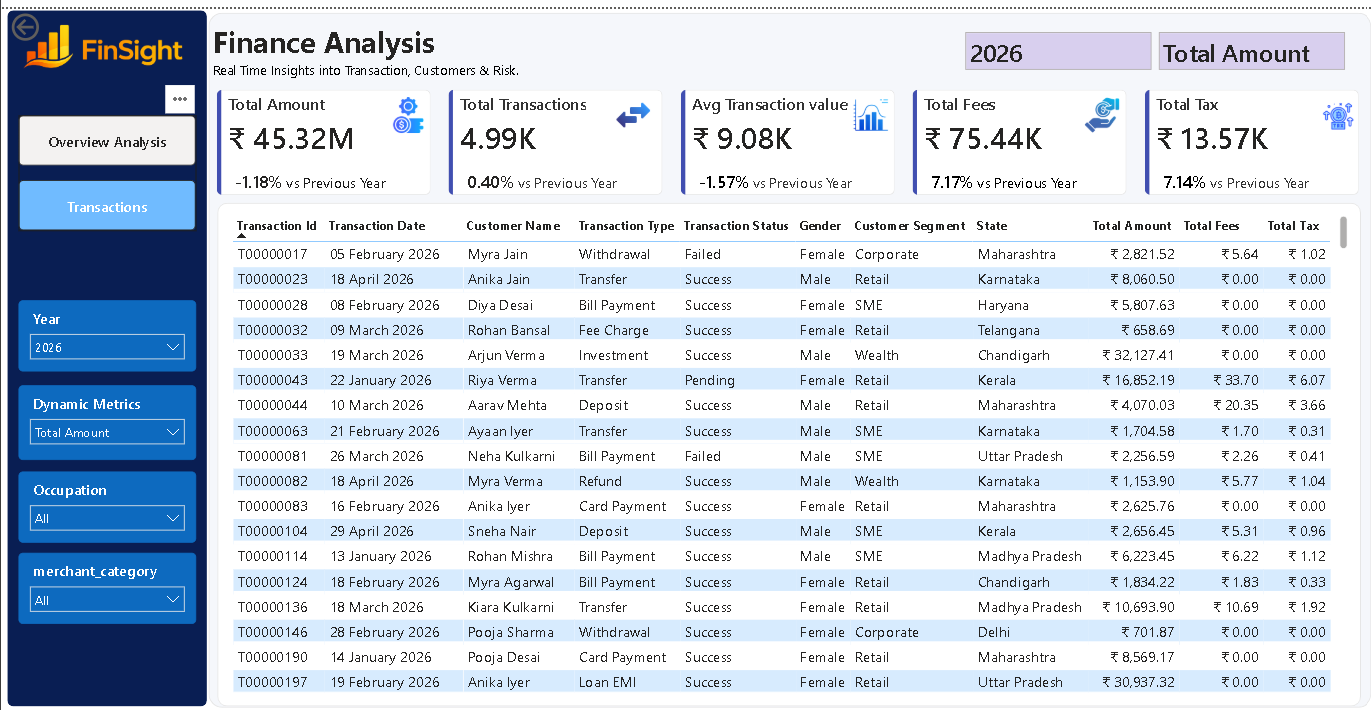

What the dashboard file says about the page in this screenshot:
{"tool":"powerbi","page":{"name":"Transactions","canvas":[1530,780],"ordinal":1},"visuals":[{"type":"shape","box":[230.7,4.2,1294,772.8],"z":0},{"type":"shape","box":[6.9,1.4,222,774.2],"z":1000},{"type":"image","box":[6.9,1.4,218.2,82],"z":2000},{"type":"textbox","box":[230.7,9.7,394.7,73.7],"z":3000},{"type":"cardVisual","fields":{"Data":["finance_transactions.Total Amount","finance_transactions.Total Transactions","finance_transactions.Avg Transaction value","finance_transactions.Total Fees","finance_transactions.Total Tax"]},"box":[233.5,83.4,1282.9,129.3],"z":4000},{"type":"image","box":[428.1,93.1,50,50],"z":5000},{"type":"image","box":[678.3,93.1,50,50],"z":6000},{"type":"image","box":[1199.5,93.1,50,50],"z":7000},{"type":"image","box":[942.4,93.1,50,50],"z":8000},{"type":"image","box":[1462.2,94.5,50,50],"z":9000},{"type":"shape","box":[240.5,215.4,1271.8,560.1],"z":10000},{"type":"cardVisual","fields":{"Data":["finance_transactions.Selected Year","finance_transactions.Selected Dynamic Title"]},"box":[1067.4,20.8,433.6,52.8],"z":11000},{"type":"tableEx","fields":{"Values":["finance_transactions.transaction_id","finance_transactions.transaction_date","customers.customer_name","finance_transactions.transaction_type","finance_transactions.transaction_status","customers.gender","customers.customer_segment","customers.state","finance_transactions.Total Amount","finance_transactions.Total Fees","finance_transactions.Total Tax"]},"box":[251.6,225.2,1250.9,539.3],"z":12000},{"type":"actionButton","box":[6.9,0,100.1,40.3],"z":13000},{"type":"slicer","fields":{"Values":["Calender Table.Year"]},"box":[19.5,323.8,197.4,79.2],"z":14000},{"type":"slicer","fields":{"Values":["Dynamic Metrics.Dynamic Metrics"]},"box":[19.5,418.4,197.4,83.4],"z":15000},{"type":"slicer","fields":{"Values":["customers.occupation"]},"box":[19.5,514.3,197.4,79.2],"z":16000},{"type":"slicer","fields":{"Values":["finance_transactions.merchant_category"]},"box":[19.5,604.6,197.4,79.2],"z":17000},{"type":"pageNavigator","box":[19.5,118.1,197.4,129.3],"z":18000}]}

Visuals, with their boxes on the page's 1530x780 design canvas (x1, y1, x2, y2). These are canvas units, not pixel positions in the 1372x710 screenshot, which may show the page scaled, cropped or inside an application window:
shape: [left=231, top=4, right=1525, bottom=777]
shape: [left=7, top=1, right=229, bottom=776]
image: [left=7, top=1, right=225, bottom=83]
textbox: [left=231, top=10, right=625, bottom=83]
cardVisual - finance_transactions.Total Amount x finance_transactions.Total Transactions: [left=234, top=83, right=1516, bottom=213]
image: [left=428, top=93, right=478, bottom=143]
image: [left=678, top=93, right=728, bottom=143]
image: [left=1200, top=93, right=1250, bottom=143]
image: [left=942, top=93, right=992, bottom=143]
image: [left=1462, top=94, right=1512, bottom=144]
shape: [left=240, top=215, right=1512, bottom=776]
cardVisual - finance_transactions.Selected Year x finance_transactions.Selected Dynamic Title: [left=1067, top=21, right=1501, bottom=74]
tableEx - finance_transactions.transaction_id x finance_transactions.transaction_date: [left=252, top=225, right=1502, bottom=764]
actionButton: [left=7, top=0, right=107, bottom=40]
slicer - Calender Table.Year: [left=20, top=324, right=217, bottom=403]
slicer - Dynamic Metrics.Dynamic Metrics: [left=20, top=418, right=217, bottom=502]
slicer - customers.occupation: [left=20, top=514, right=217, bottom=594]
slicer - finance_transactions.merchant_category: [left=20, top=605, right=217, bottom=684]
pageNavigator: [left=20, top=118, right=217, bottom=247]
